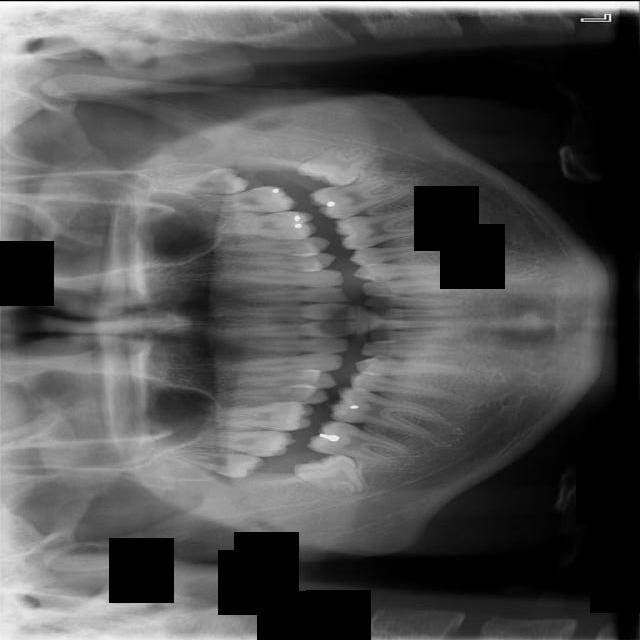3M ESPE Implant: (165, 448, 266, 479)
52: (304, 406, 363, 467), (322, 378, 387, 433), (305, 174, 364, 233), (265, 209, 317, 241), (247, 184, 297, 212)
73: (510, 86, 522, 100)
BioHorizons Implant: (187, 185, 297, 211)
BioLife Implant: (154, 165, 249, 196)
Biomet 3i Implant: (295, 135, 373, 193)
Blue Sky Bio Implant: (307, 172, 412, 223)
Caries: (192, 427, 298, 459)
Implant: (305, 414, 414, 467)
Keystone Dental Implant: (291, 447, 365, 507)
